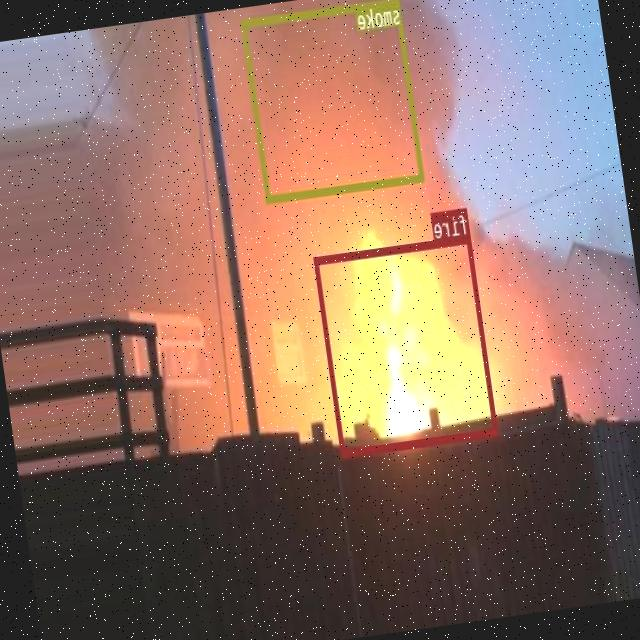fire: (316, 234, 500, 455)
smoke: (242, 0, 425, 201)
